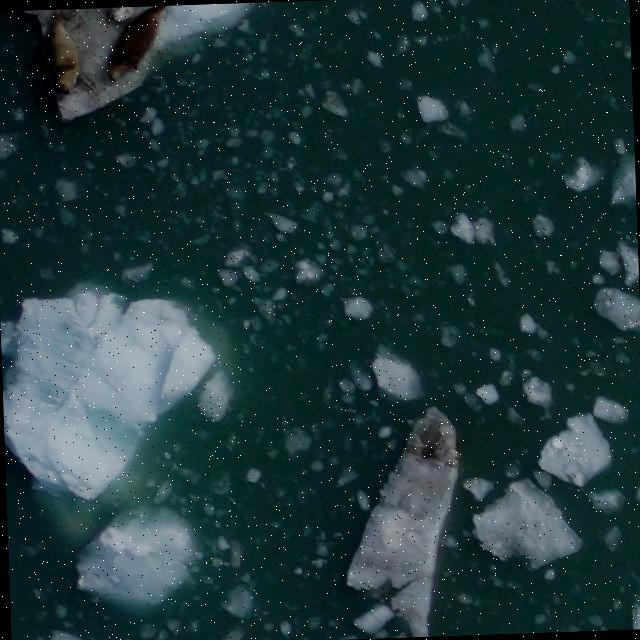seal: (100, 5, 175, 87), (36, 8, 84, 100)
